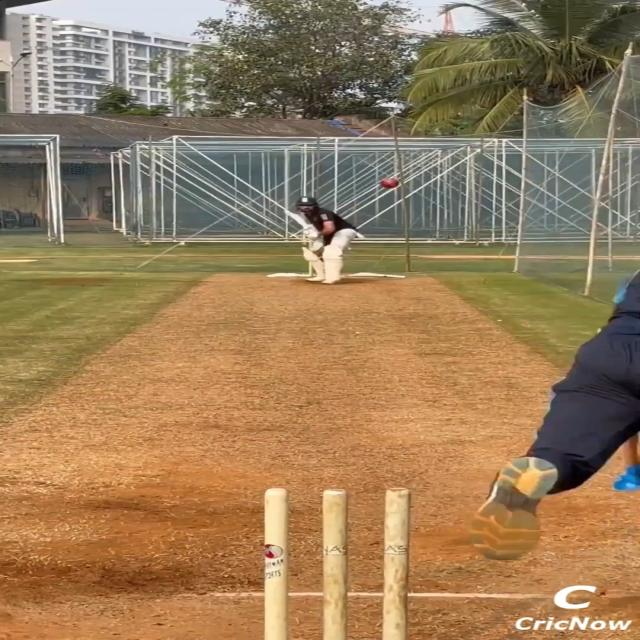ball: (380, 178, 400, 189)
stump: (262, 486, 416, 640)
